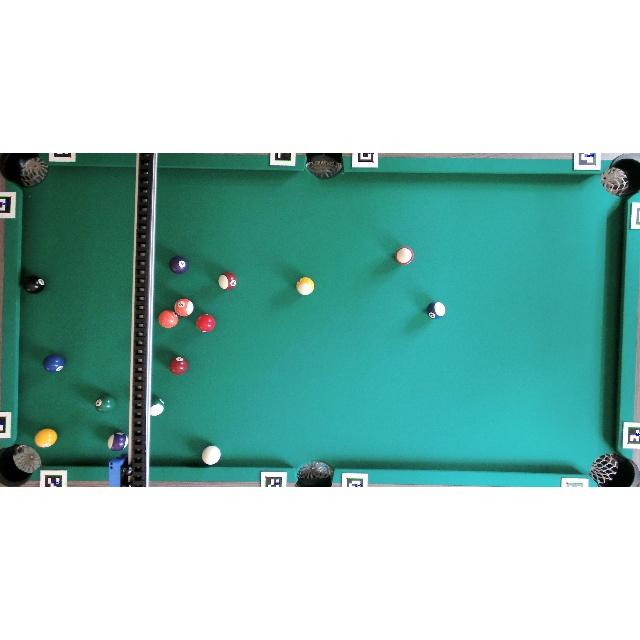cue ball: (201, 445, 221, 466)
other: (42, 354, 66, 374), (34, 428, 57, 448), (22, 276, 45, 295), (196, 313, 216, 333), (158, 310, 179, 329), (169, 255, 189, 274), (168, 356, 188, 375), (174, 298, 194, 317), (108, 432, 128, 450), (218, 272, 237, 290), (426, 302, 446, 319), (95, 395, 115, 412), (296, 277, 314, 295), (395, 247, 414, 264), (149, 397, 165, 417)
